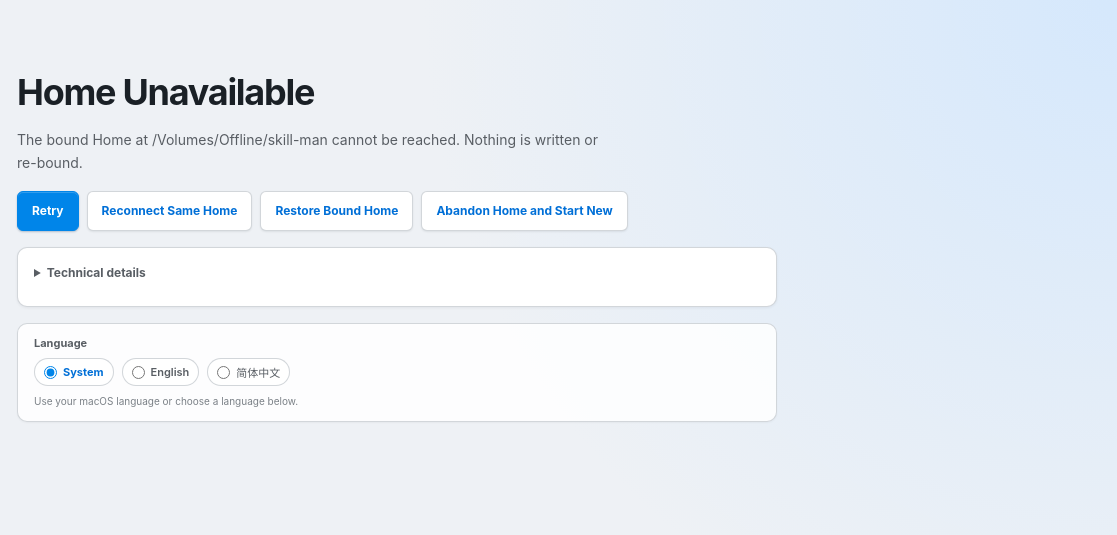
Test: Restore probe with a not-applicable reason shows the closed notice
The width and height of the screenshot is (1117, 535).
Click the button "Restore Bound Home".
click(337, 210)  # box [260,190,413,230]
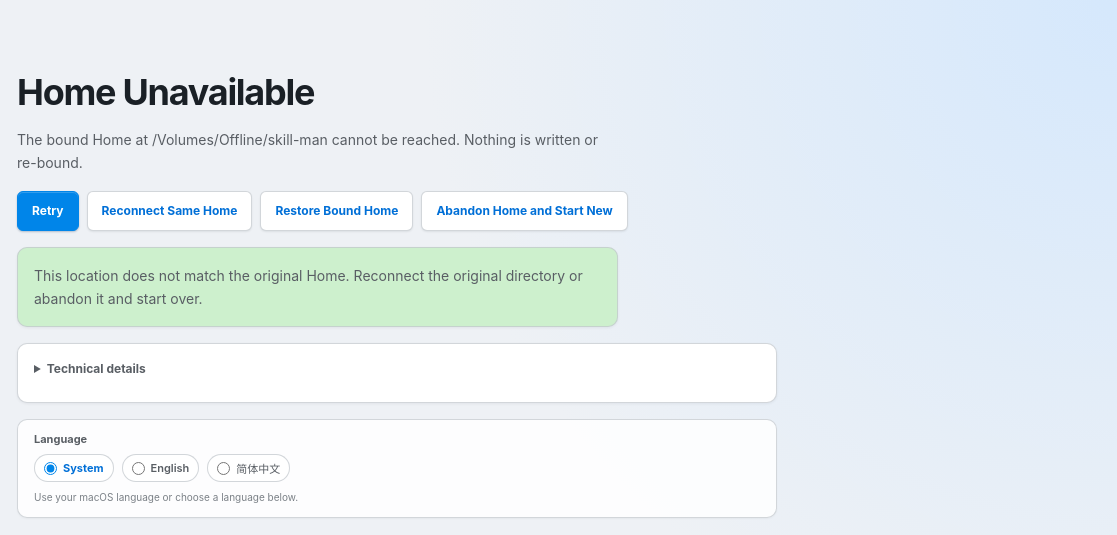
Now the text "does not match the original Home" is shown, box [34,266,583,307]
